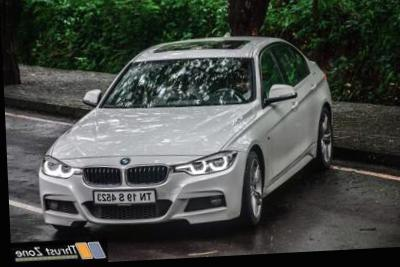License_Plate: (92, 185, 161, 208)
